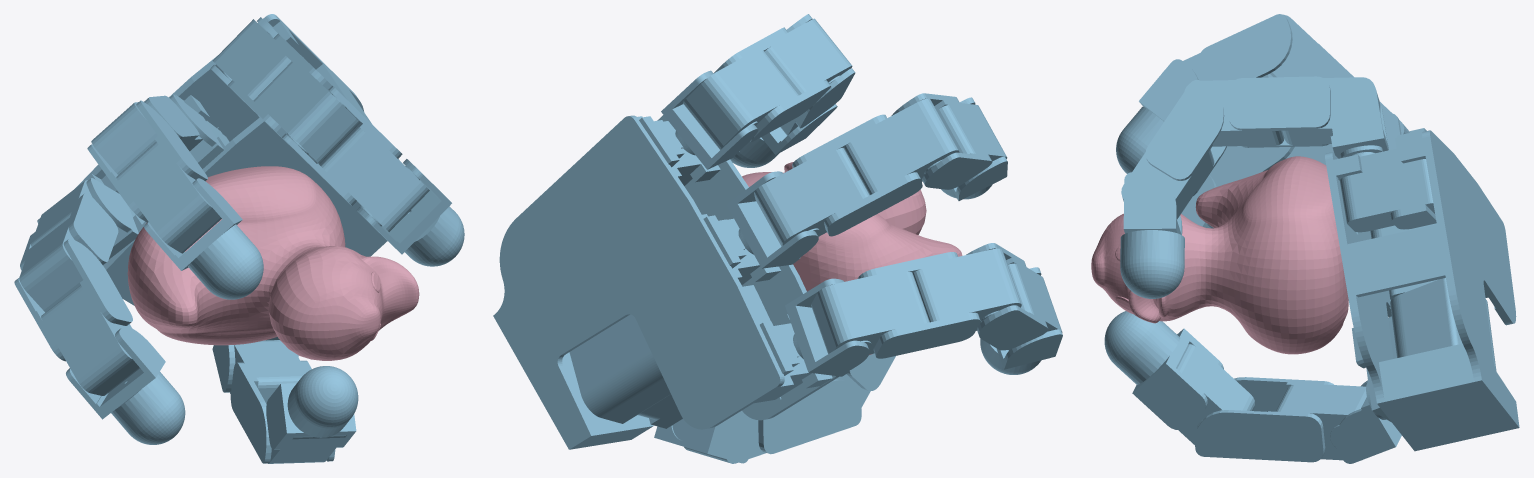
3 views of the same model, side by side, from view 1: azimuth 30°, elevation 25°; view 2: azimuth 150°, elevation 25°; view 3: azimuth 270°, elevation 25° (orthographic). The views are drawn at different scales.
Visible parts, largest first — view 1: world, rubber_duck.stl; view 2: world, rubber_duck.stl; view 3: world, rubber_duck.stl.
Part boxes in pixels (x1=…): world: x1=14, y1=14, x2=464, y2=463; rubber_duck.stl: x1=127, y1=166, x2=419, y2=360; world: x1=493, y1=14, x2=1062, y2=463; rubber_duck.stl: x1=742, y1=162, x2=962, y2=354; world: x1=1104, y1=14, x2=1519, y2=463; rubber_duck.stl: x1=1091, y1=156, x2=1348, y2=354.
Size of the model in its own units: 0.1813 by 0.1583 by 0.1596.
